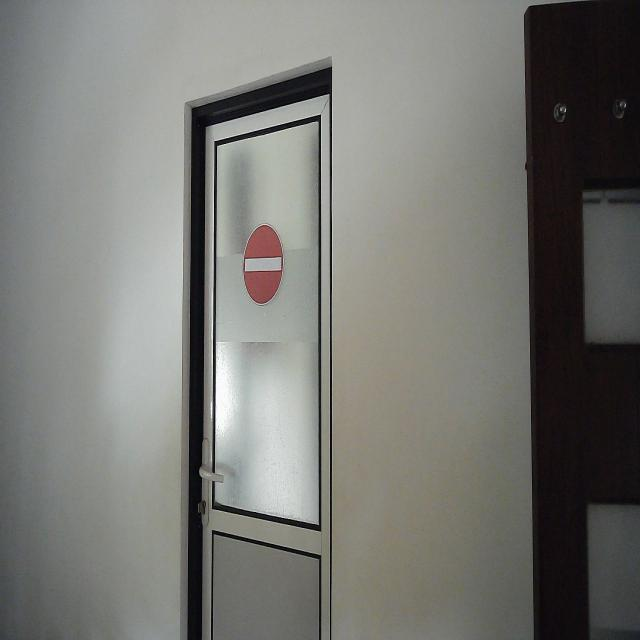no_entry: (240, 220, 286, 308)
